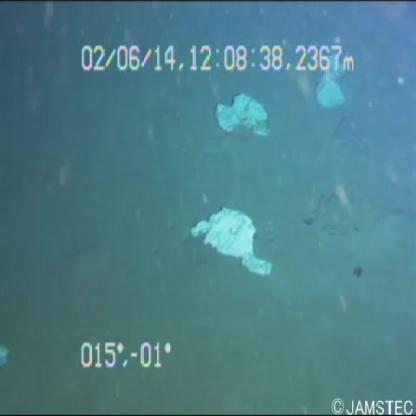Rác: (180, 190, 278, 283), (209, 86, 275, 138), (308, 50, 354, 118)
